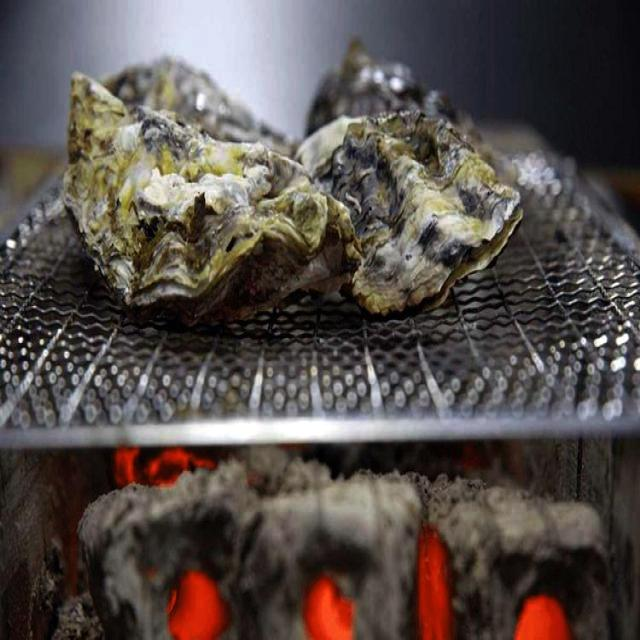Oyster-Closed: (66, 75, 352, 328)
Oyster-Open: (298, 106, 528, 324)
